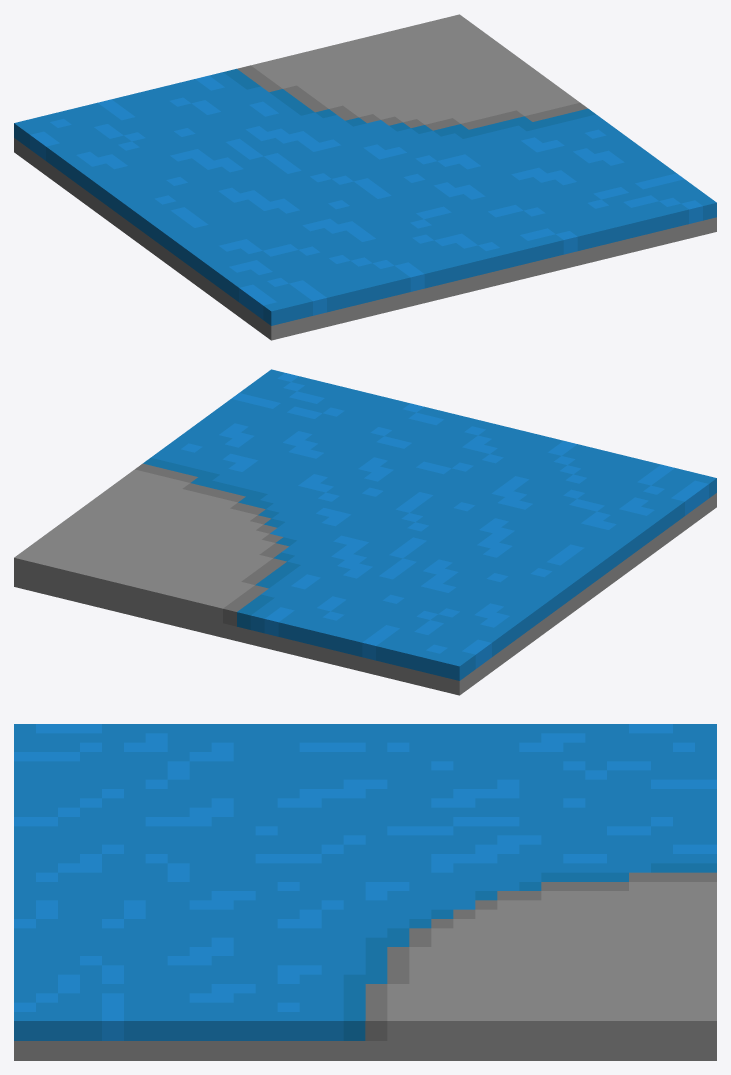
File: city-water-rounded-edge-outer-2.gltf
3 renders of one model, top to bottom at view 1: azimuth 30°, elevation 25°; view 2: azimuth 150°, elevation 25°; view 3: azimuth 270°, elevation 25°, orthographic. The views are drawn at different scales.
Visible parts, largest first — view 1: city-water-rounded-edge-outer-2; view 2: city-water-rounded-edge-outer-2; view 3: city-water-rounded-edge-outer-2.
Part boxes in pixels (x1,y1,x2,y2): city-water-rounded-edge-outer-2: (14,14,716,340); city-water-rounded-edge-outer-2: (14,369,716,695); city-water-rounded-edge-outer-2: (14,724,716,1060).
Size of the model in its own units: 3.2 by 0.2 by 3.2.
Materials: 1 (1 with a texture image).
